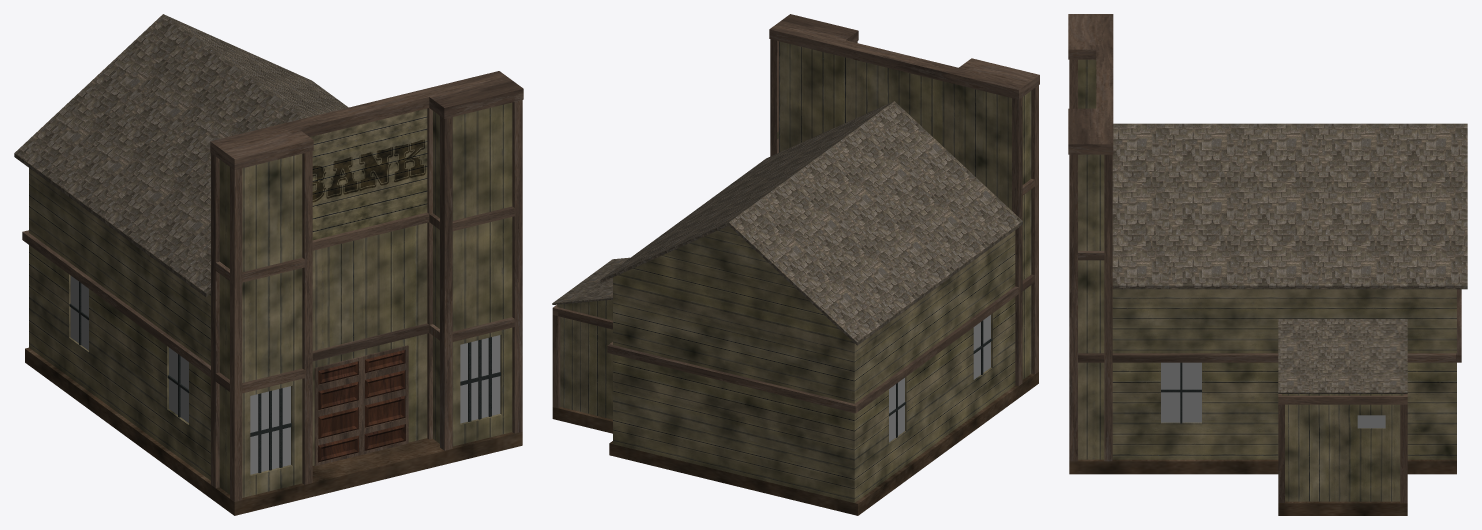
Rendered from Bank.fbx.
3 renders of one model, left to right at view 1: azimuth 30°, elevation 25°; view 2: azimuth 150°, elevation 25°; view 3: azimuth 270°, elevation 25°, orthographic. The views are drawn at different scales.
Parts seen in each view (by area): view 1: Base, Woods, Roofs, Logo; view 2: Base, Roofs, Woods; view 3: Roofs, Base, Woods.
Boxes of the visible parts, left/top/right/bottom form: Base: left=25, top=102, right=522, bottom=515; Woods: left=22, top=71, right=523, bottom=501; Roofs: left=14, top=14, right=348, bottom=297; Logo: left=310, top=108, right=427, bottom=240; Base: left=552, top=41, right=1038, bottom=515; Roofs: left=552, top=101, right=1022, bottom=345; Woods: left=552, top=14, right=1039, bottom=413; Roofs: left=1112, top=123, right=1467, bottom=393; Base: left=1069, top=59, right=1456, bottom=515; Woods: left=1068, top=14, right=1461, bottom=502.
Bounding box in the file's own units: 8.27 × 7.32 × 8.02.
